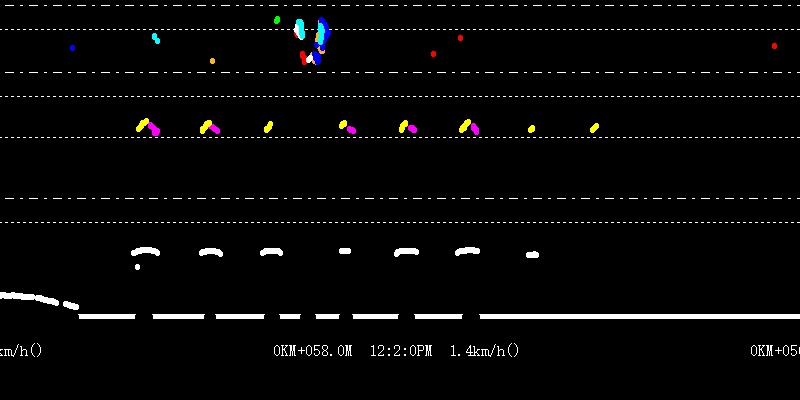J: (293, 3, 330, 64)
face_down: (149, 24, 162, 46)
face_up: (271, 14, 283, 34)
y_p: (124, 107, 486, 271)
